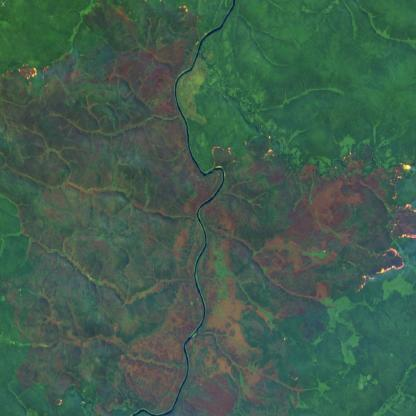fire: (353, 151, 416, 298), (208, 130, 280, 177), (0, 56, 64, 92), (172, 0, 194, 27)
